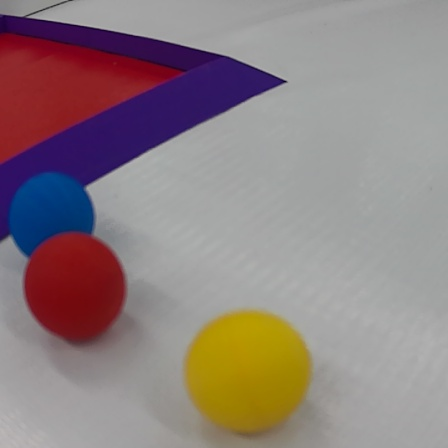blue: (9, 169, 100, 264)
red: (21, 233, 128, 345)
red_aim: (2, 11, 293, 251)
yellow: (184, 310, 316, 438)
